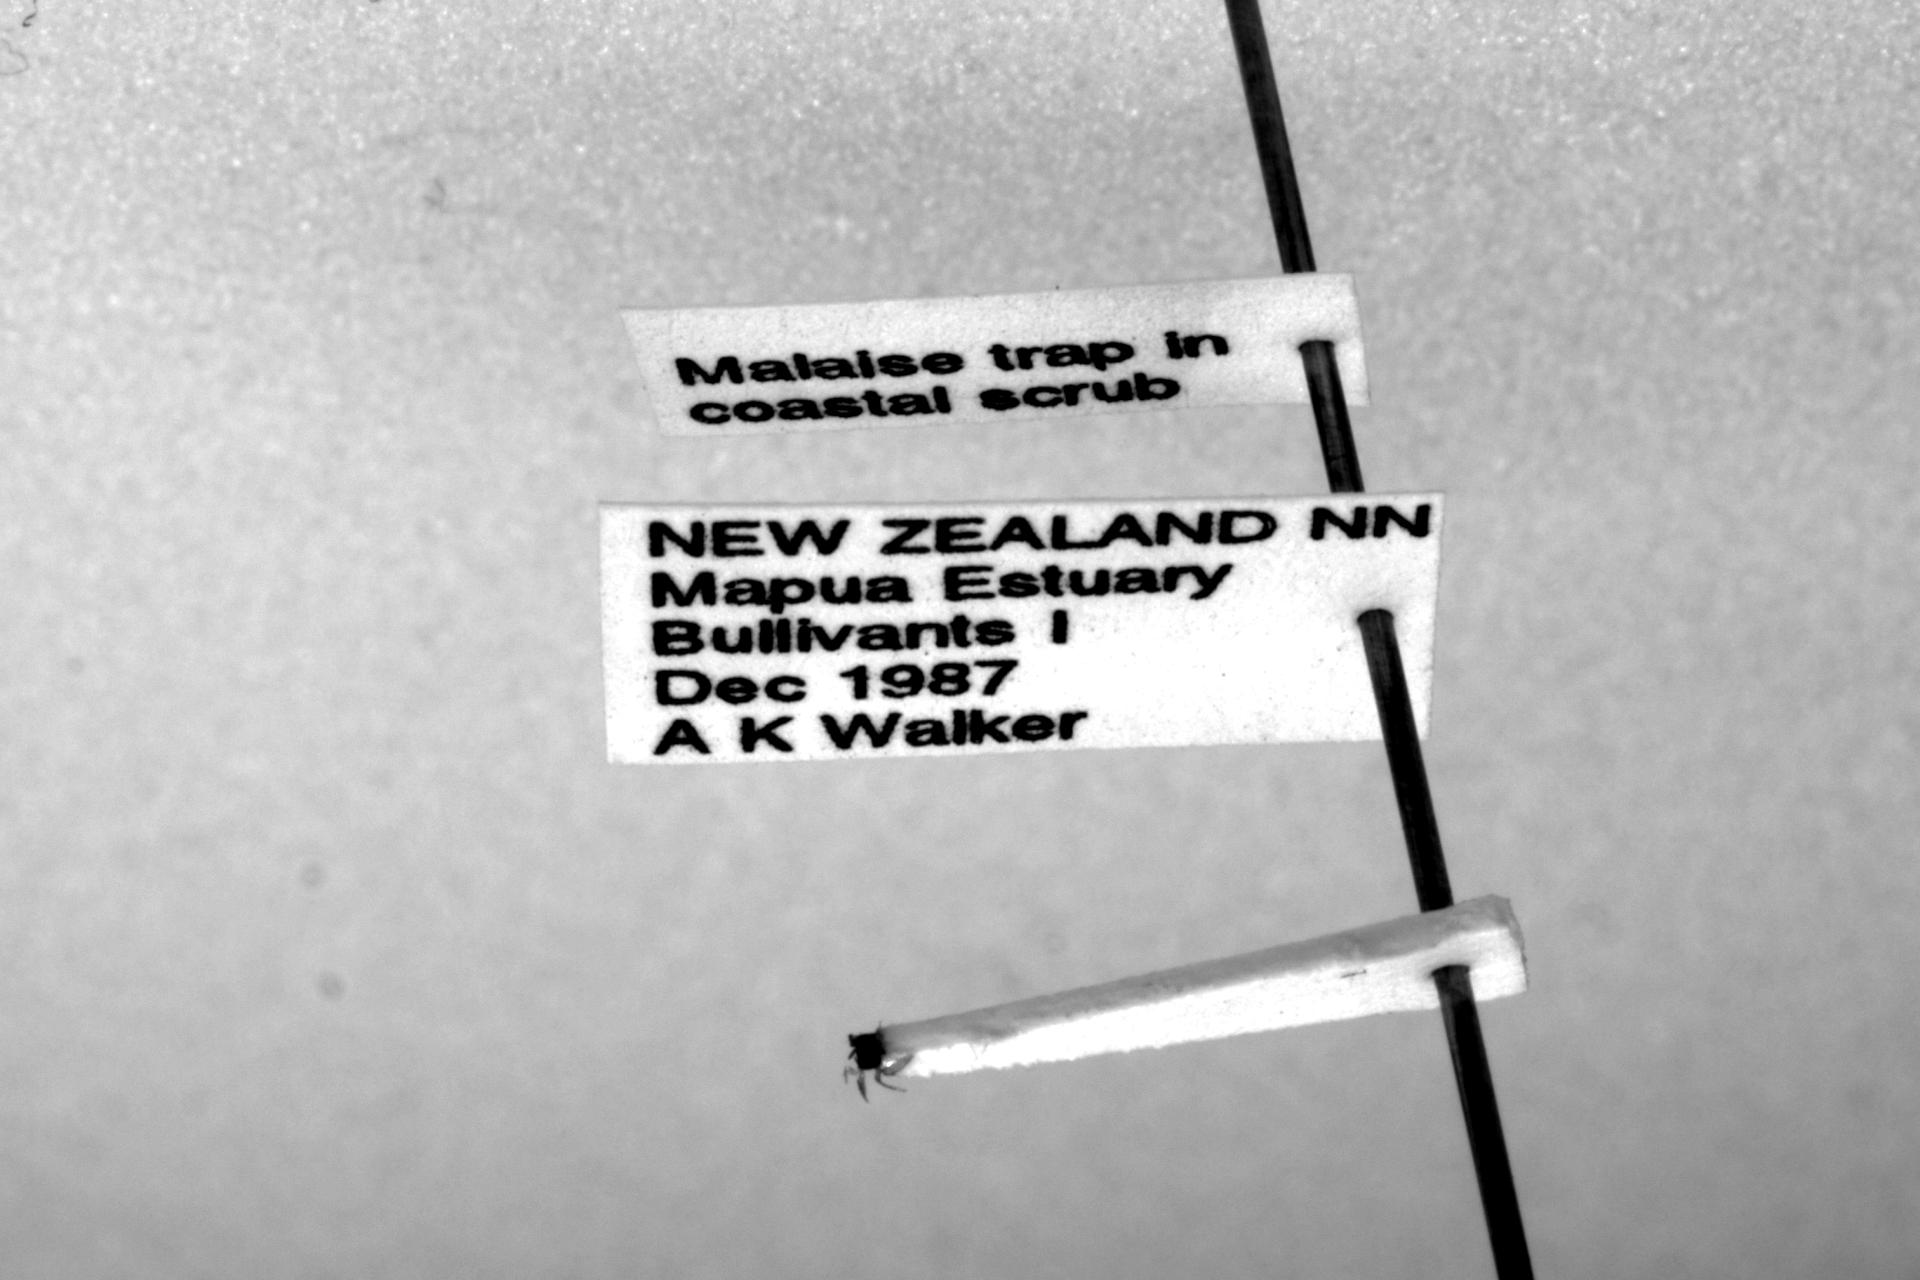typed_label: (600, 494, 1444, 766), (623, 274, 1369, 434)
